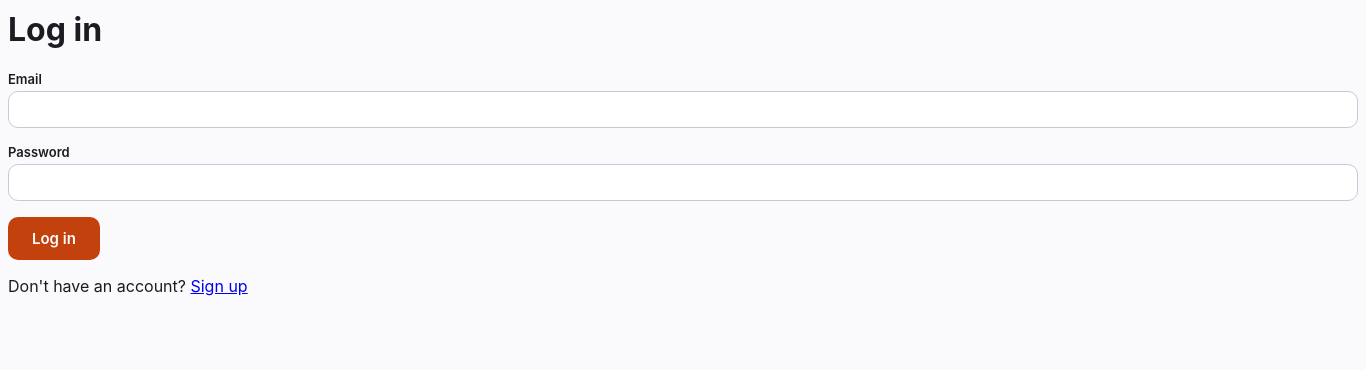
it: LoginPage › renders the EMAIL_NOT_VERIFIED server error inline
The width and height of the screenshot is (1366, 370).
Type "learner@example.com" into the field labelled "Email" at (683, 109), box [8, 91, 1358, 128]
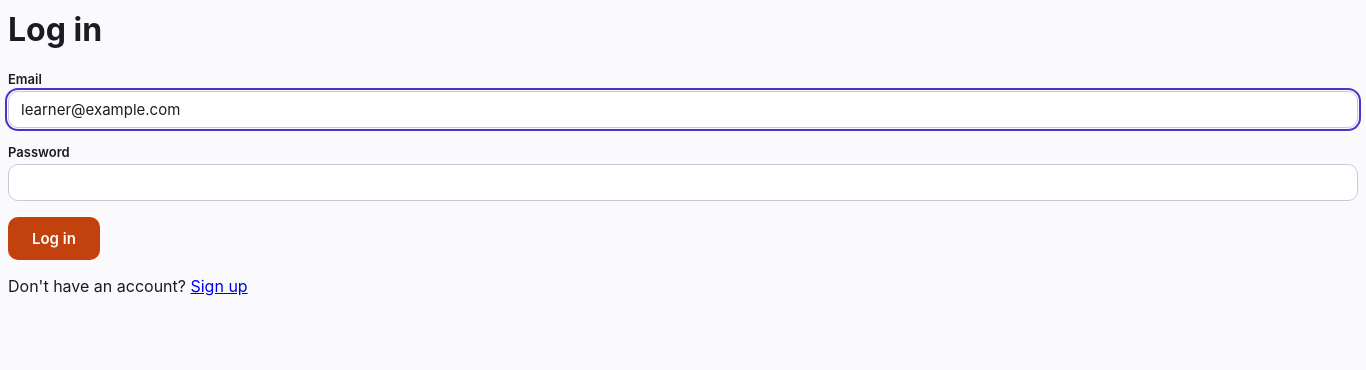
Type "a-long-enough-password" into the password field labelled "Password" at (683, 182), box [8, 164, 1358, 201]
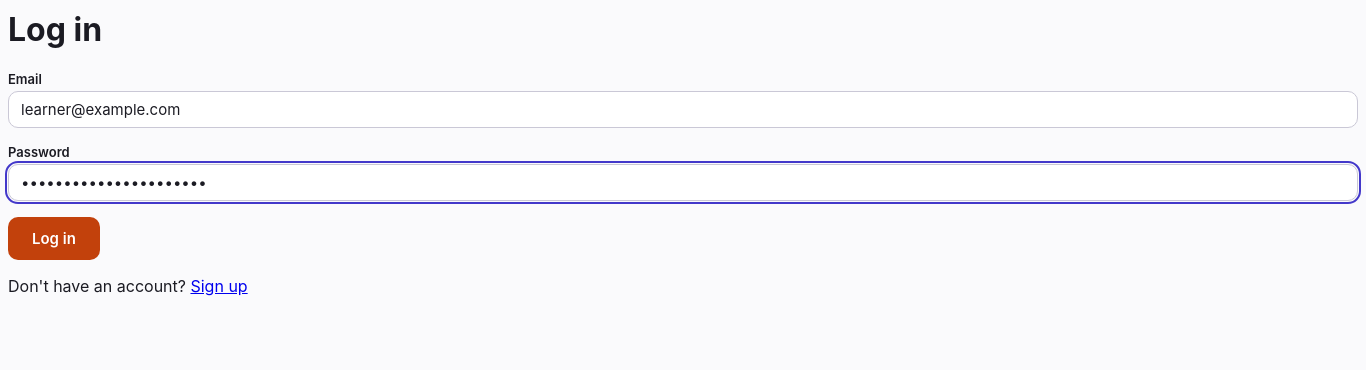
Click the button "Log in" at (54, 238), box [8, 217, 100, 260]
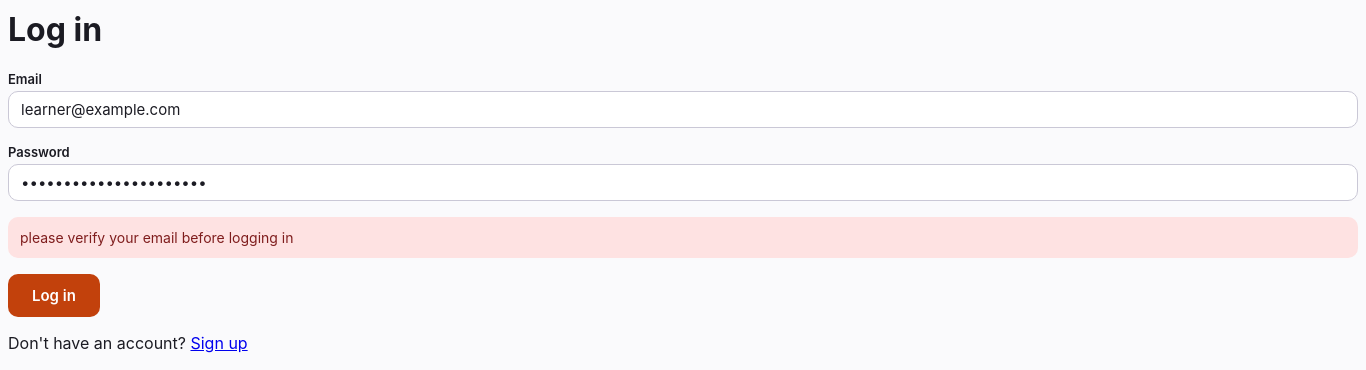
Expected: the message shows "verify your email", [20, 229, 294, 246]
